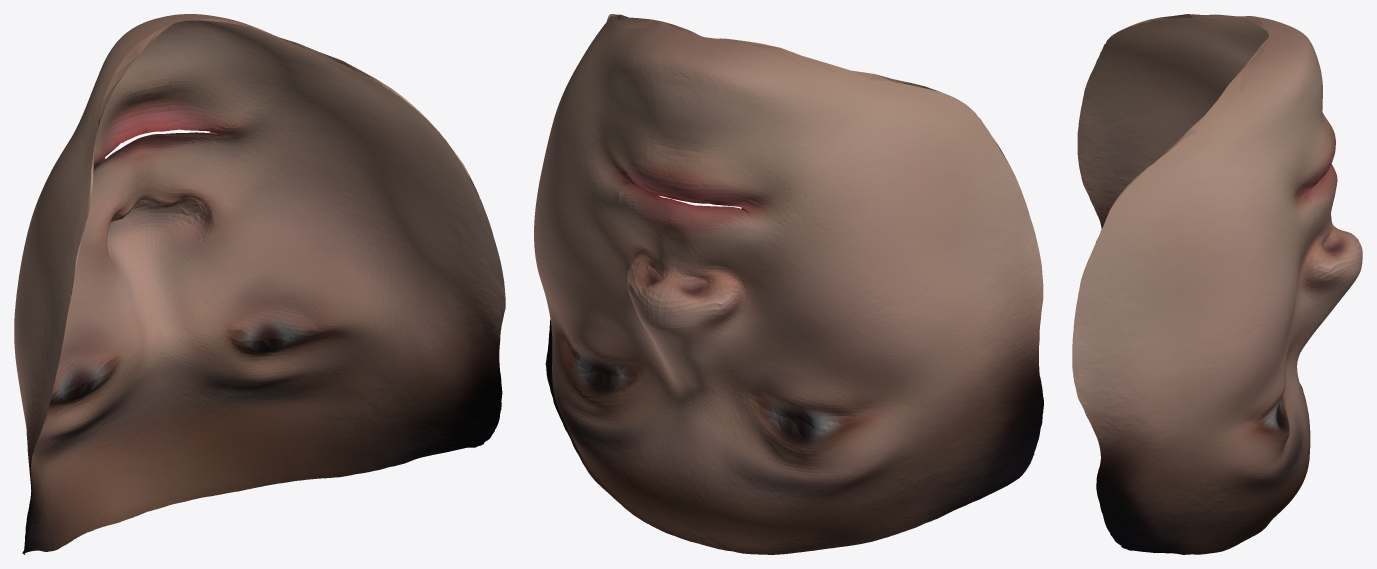
3 views of the same model, side by side, from view 1: azimuth 30°, elevation 25°; view 2: azimuth 150°, elevation 25°; view 3: azimuth 270°, elevation 25° (orthographic). The views are drawn at different scales.
Visible parts, largest first — view 1: 2_base; view 2: 2_base; view 3: 2_base.
Part boxes in pixels (box(x1,y1,x2,y2)): 2_base: box(14, 14, 505, 554); 2_base: box(534, 14, 1043, 554); 2_base: box(1072, 14, 1362, 554).
Bounding box in the file's own units: 101 × 99.33 × 55.96.
